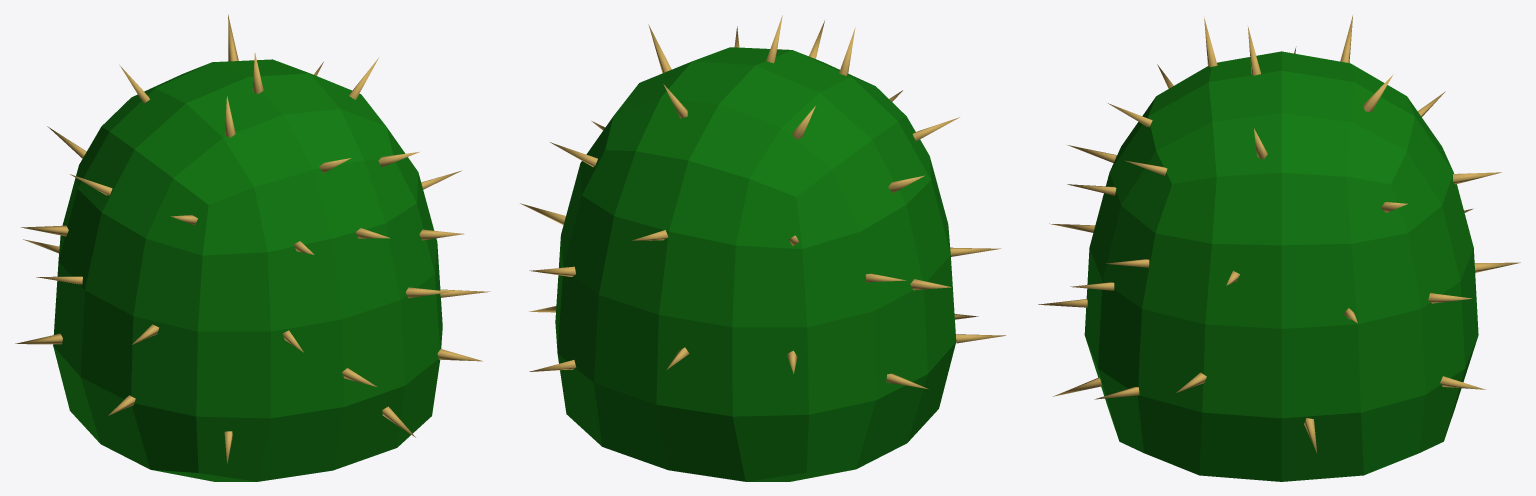
The model's file is Cactus6.fbx.
3 renders of one model, left to right at view 1: azimuth 30°, elevation 25°; view 2: azimuth 150°, elevation 25°; view 3: azimuth 270°, elevation 25°, orthographic. The views are drawn at different scales.
Visible parts, largest first — view 1: Cactus6; view 2: Cactus6; view 3: Cactus6.
Boxes of the visible parts, x1,y1,x2,y2 form: Cactus6: (53,59,442,481); Cactus6: (555,47,956,481); Cactus6: (1084,51,1478,481).
Bounding box in the file's own units: 218 × 205 × 222.
